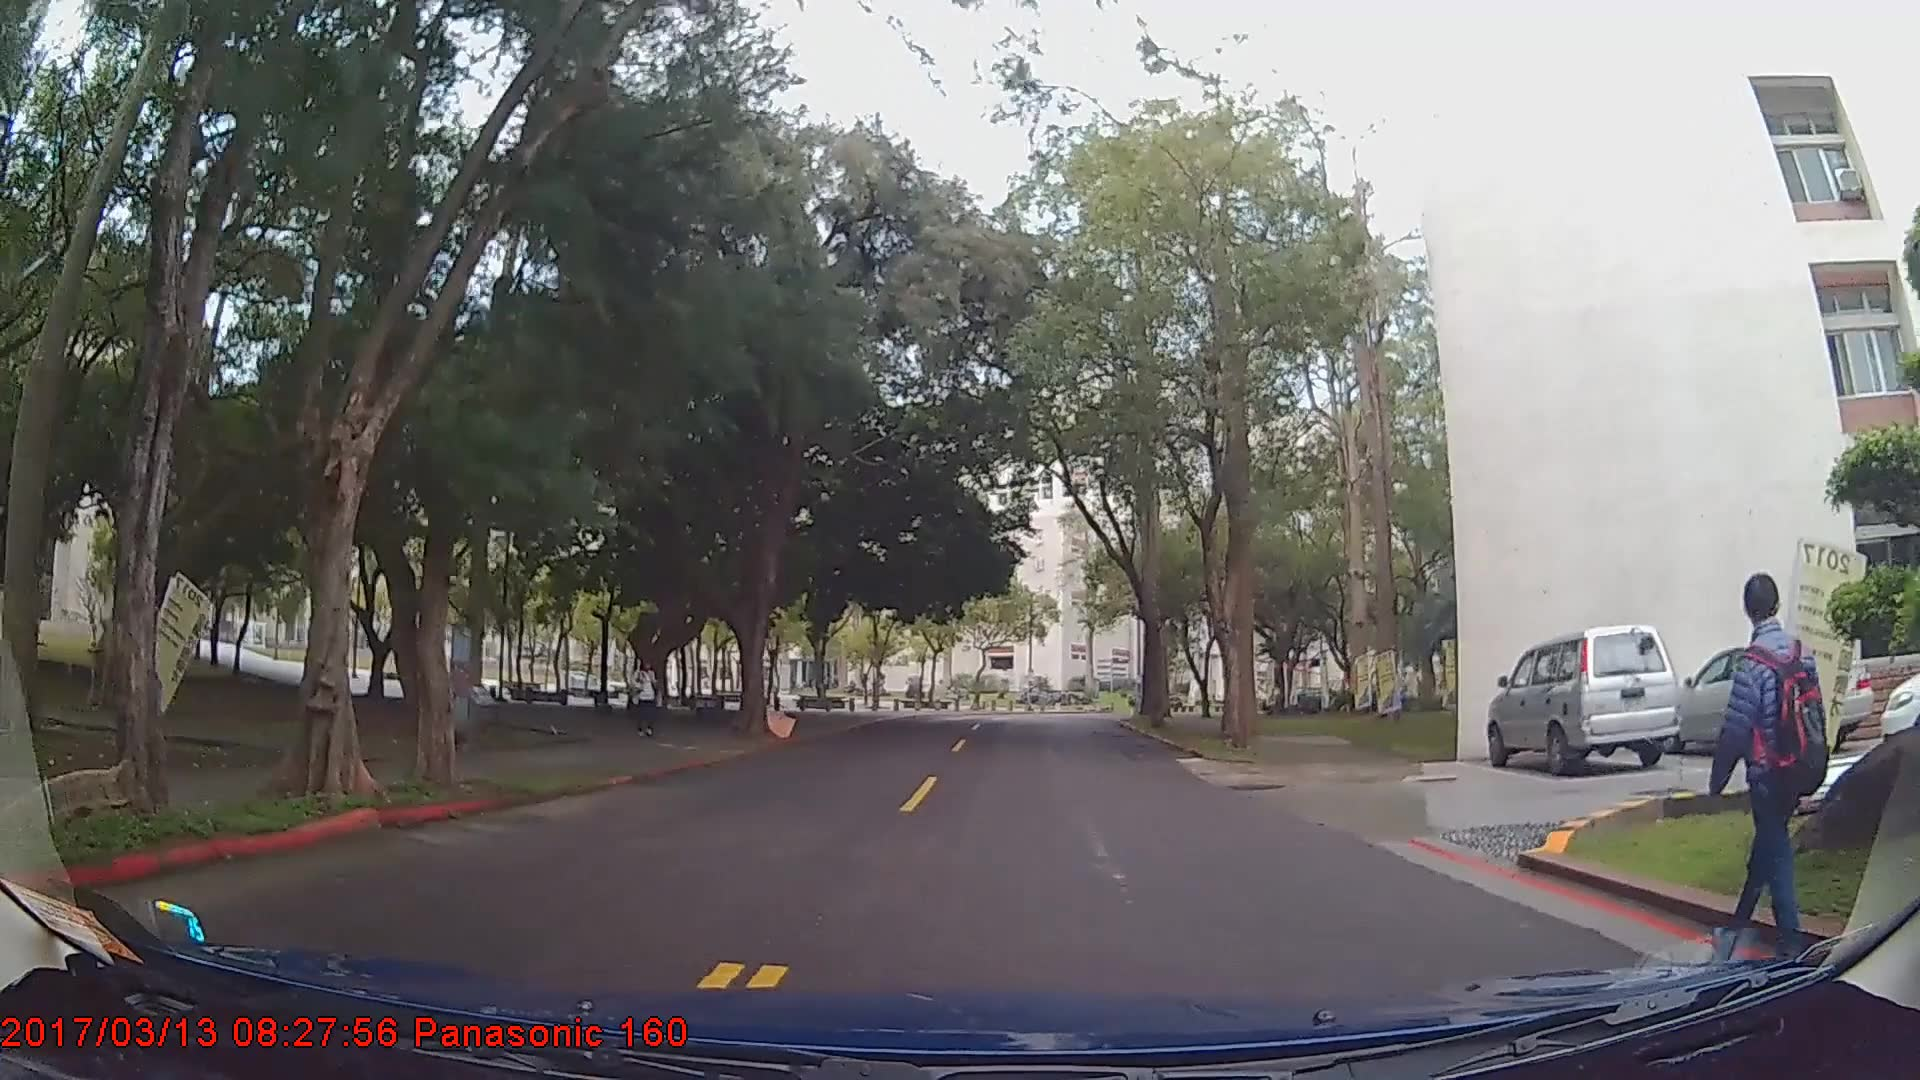pedestrian: (1705, 574, 1832, 967), (632, 657, 662, 737)
vehicle: (1487, 622, 1681, 774)
